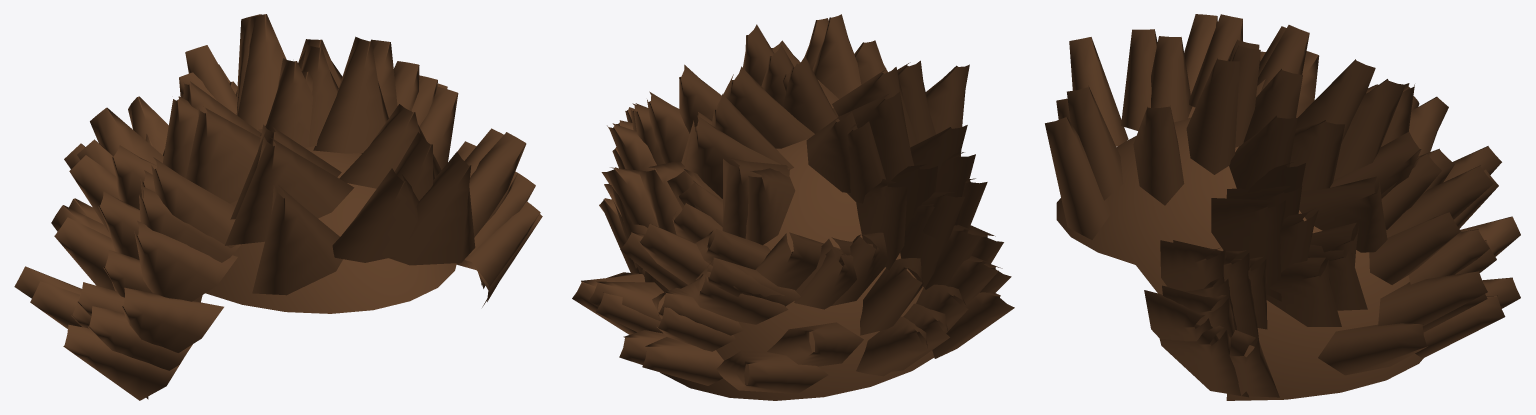
Rendered from spiky_m.glb.
3 views of the same model, side by side, from view 1: azimuth 30°, elevation 25°; view 2: azimuth 150°, elevation 25°; view 3: azimuth 270°, elevation 25° (orthographic). The views are drawn at different scales.
Parts seen in each view (by area): view 1: spiky_m; view 2: spiky_m; view 3: spiky_m.
Part boxes in pixels (x1=…): spiky_m: x1=14, y1=14, x2=542, y2=400; spiky_m: x1=572, y1=14, x2=1014, y2=400; spiky_m: x1=1045, y1=14, x2=1520, y2=400.
Size of the model in its own units: 0.2822 by 0.1818 by 0.2579.
